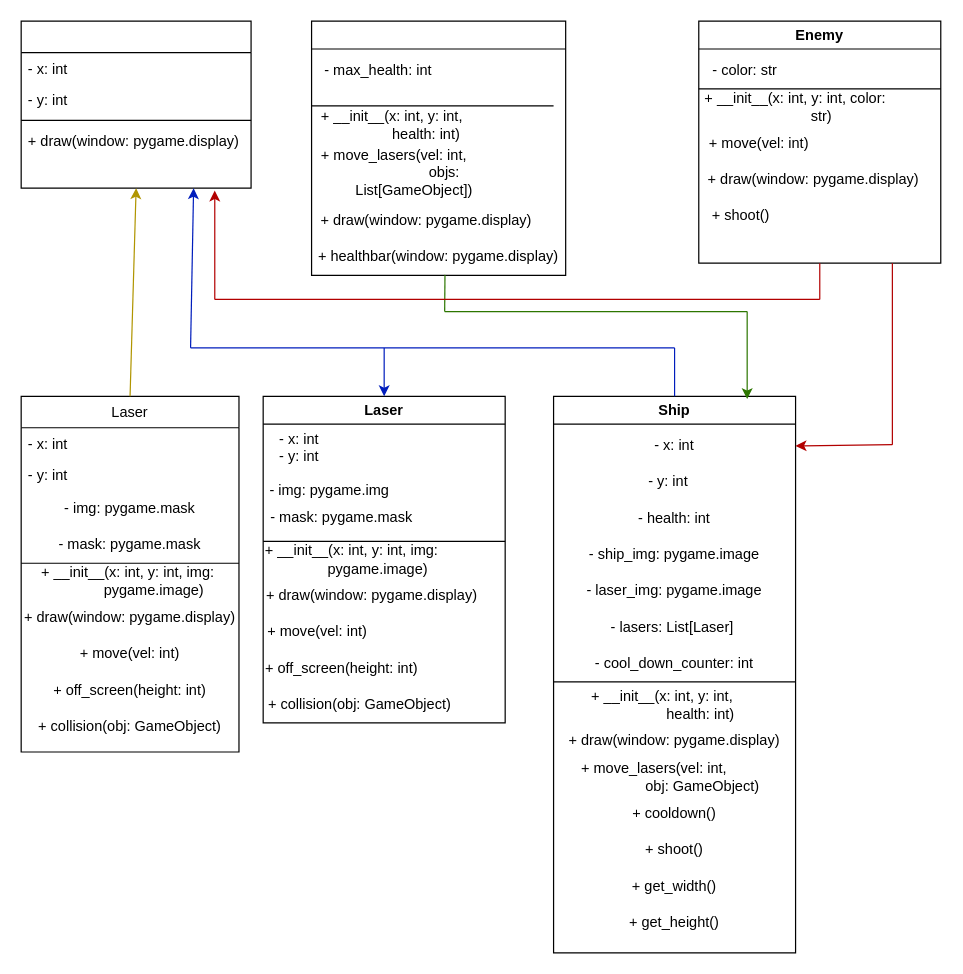
This 963x974 diagram has some shape labels left out. Each missing label, with the box of its shape:
GameObject: (20, 20, 251, 188)
Player: (310, 20, 566, 275)
